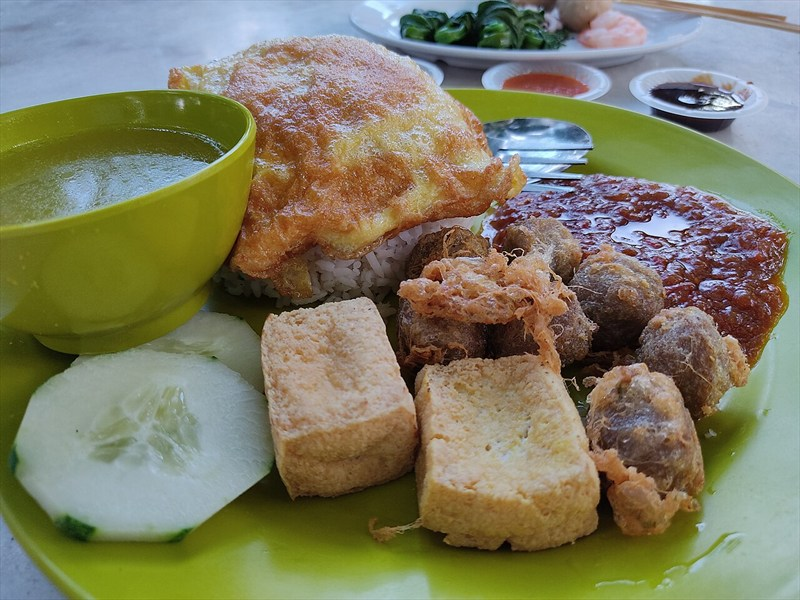Bakso: (167, 14, 743, 556)
